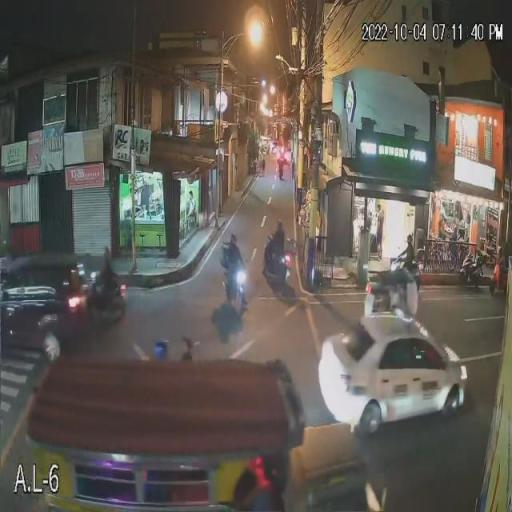helmet: (267, 213, 291, 229), (226, 231, 242, 248), (404, 234, 413, 247)
motorcycle: (214, 244, 261, 324), (387, 258, 438, 299), (263, 236, 298, 294)
rider: (266, 228, 292, 278), (223, 244, 247, 285), (392, 246, 421, 276)
